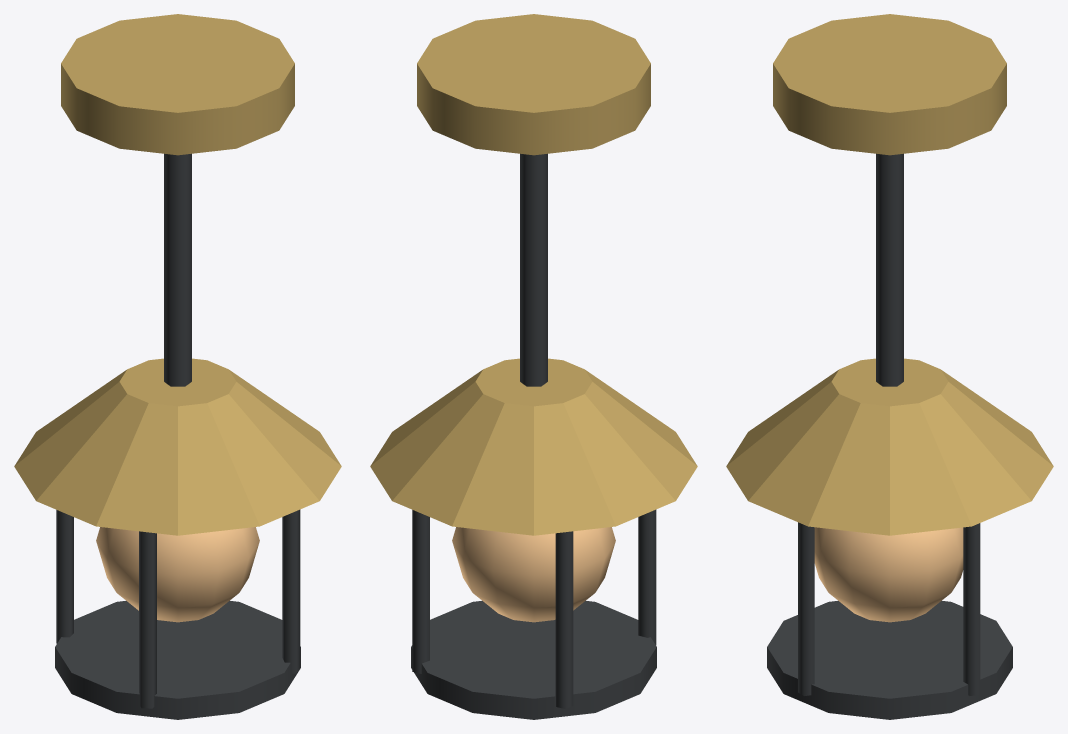
File: SM_Lamp_Cage.fbx
3 views of the same model, side by side, from view 1: azimuth 30°, elevation 25°; view 2: azimuth 150°, elevation 25°; view 3: azimuth 270°, elevation 25° (orthographic).
Visible parts, largest first — view 1: SM_Lamp_Cage; view 2: SM_Lamp_Cage; view 3: SM_Lamp_Cage.
Boxes of the visible parts, x1,y1,x2,y2 form: SM_Lamp_Cage: [14, 14, 341, 719]; SM_Lamp_Cage: [370, 14, 697, 719]; SM_Lamp_Cage: [726, 14, 1053, 719].
Bounding box in the file's own units: 0.28 × 0.57 × 0.28.
